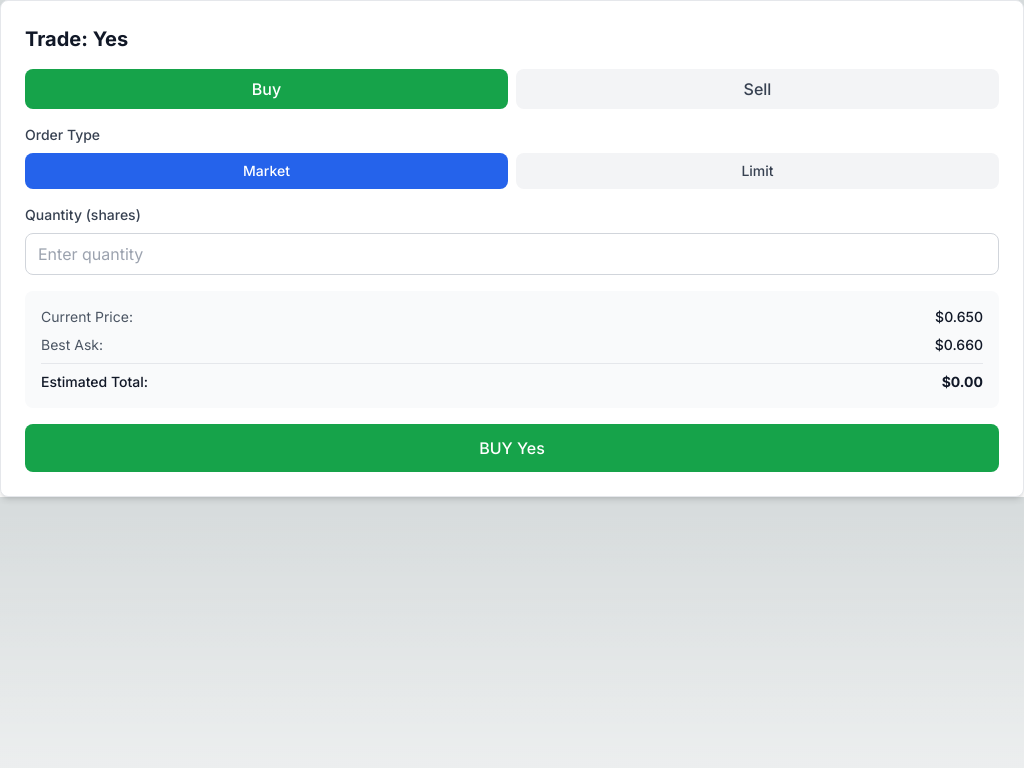
Scenario: TradingInterface › should toggle between market and limit orders
Click the button "Limit" at (758,171), box [516,153,999,189]
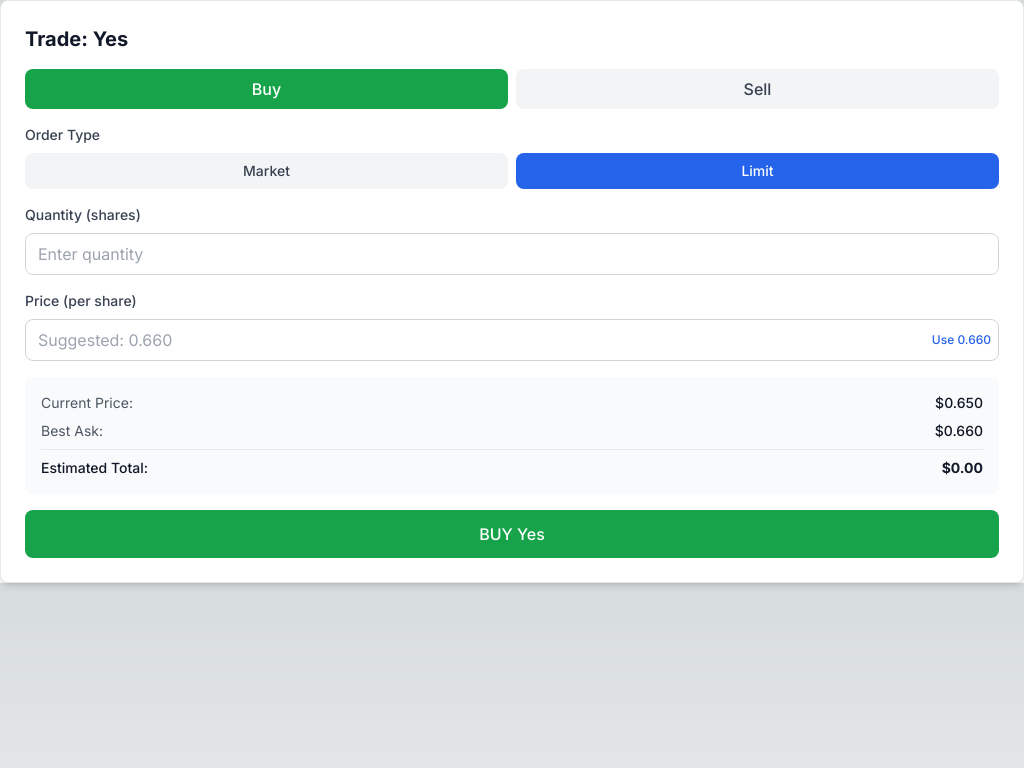
Check: the number field with placeholder "Suggested: 0.660" is shown, box [25,319,999,361]
